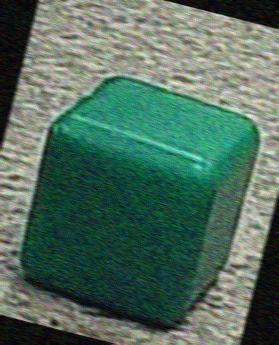green_cube: (25, 70, 278, 329)
